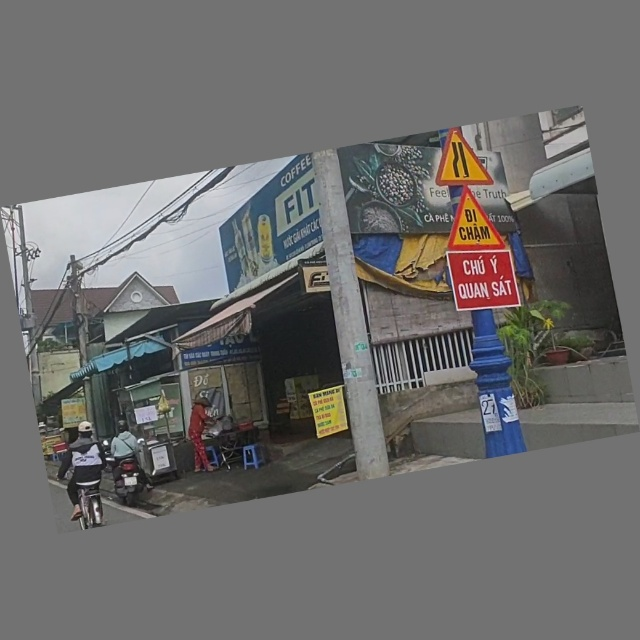W.203b: (427, 123, 495, 194)
W.245a: (439, 181, 507, 258)
